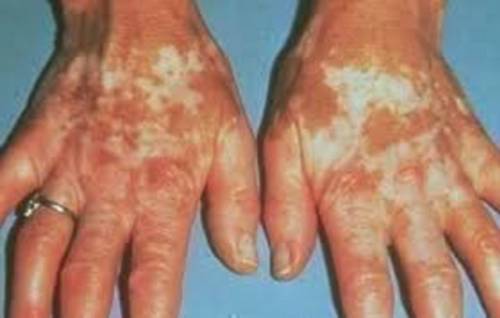Diseased: (41, 31, 464, 281)
